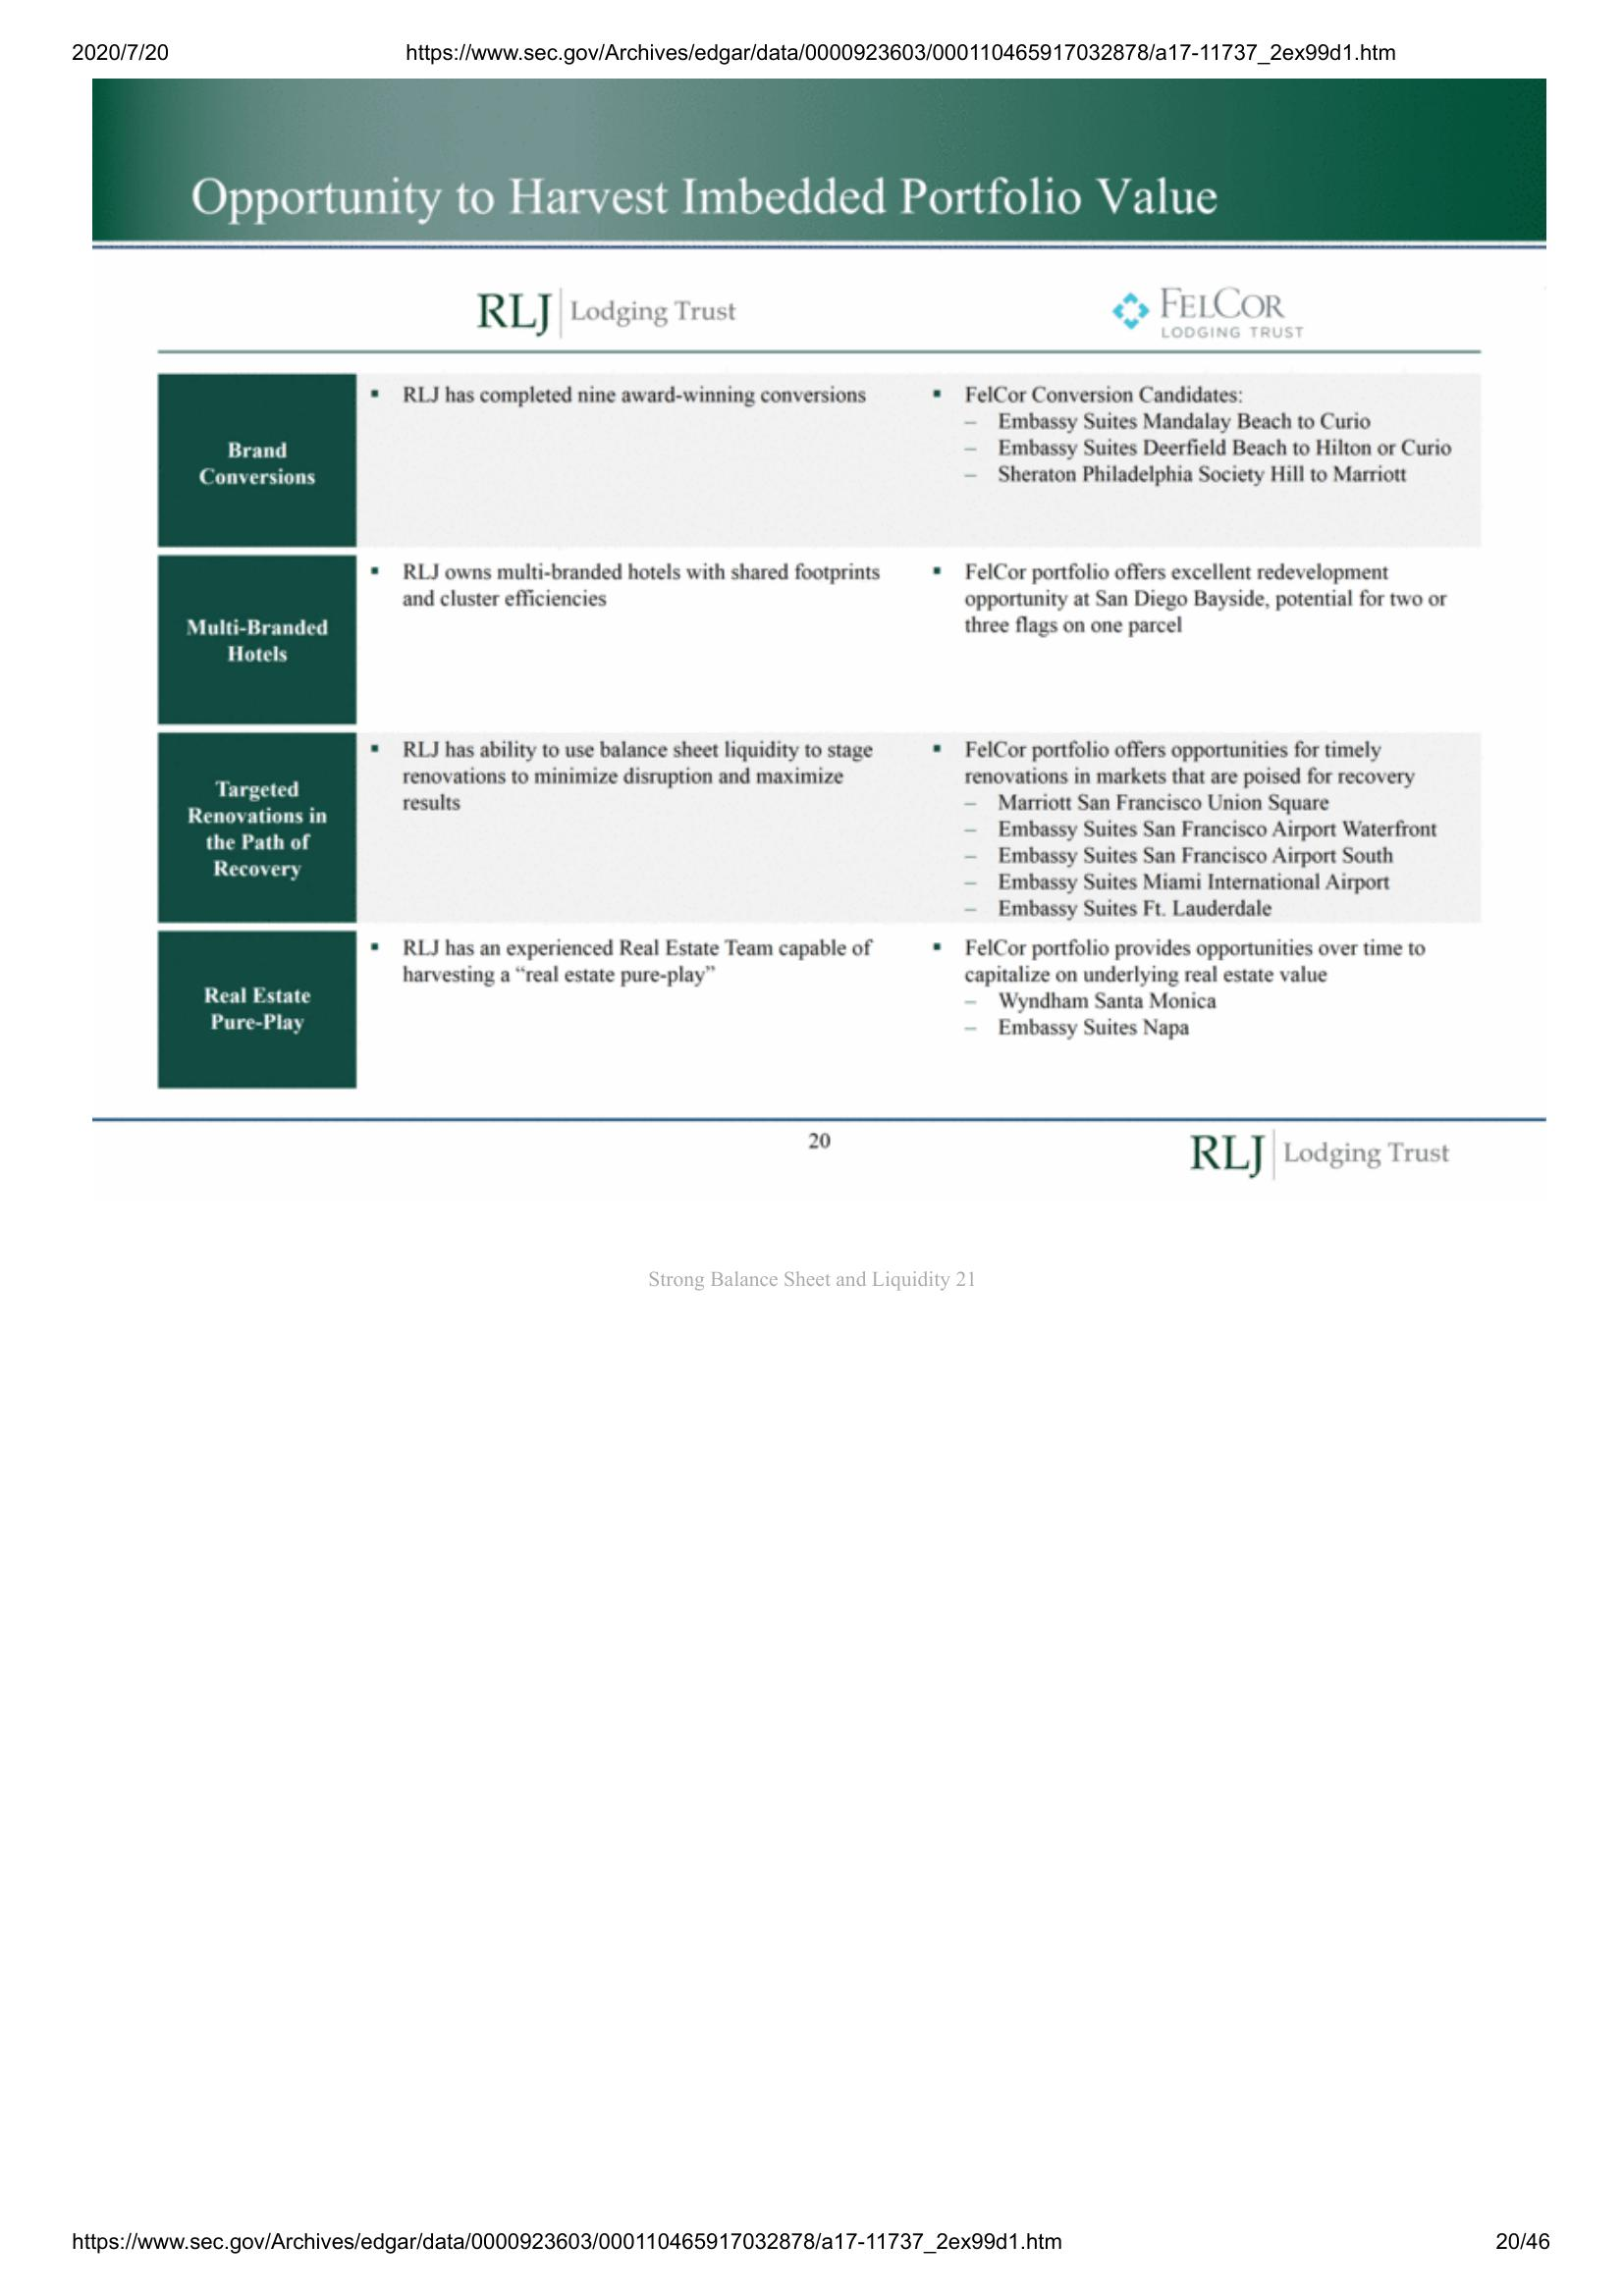table: (156, 369, 1491, 1088)
